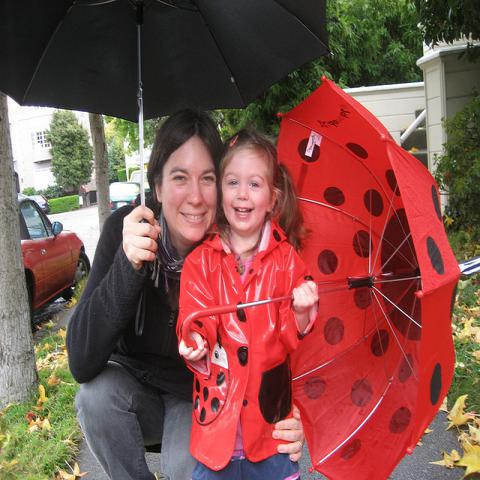car: (18, 192, 91, 330), (109, 180, 140, 213), (129, 170, 151, 192), (31, 195, 50, 211)
